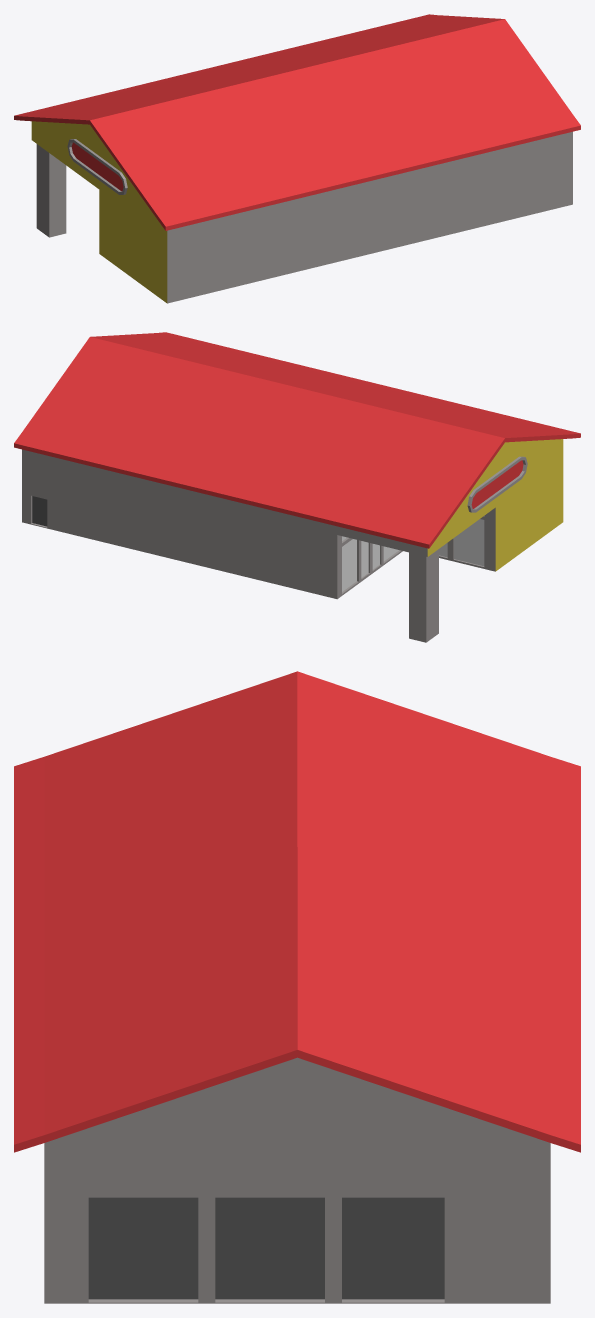
The model's file is prop_biedra.fbx.
The picture shows the model from 3 angles, top to bottom: view 1: azimuth 30°, elevation 25°; view 2: azimuth 150°, elevation 25°; view 3: azimuth 270°, elevation 25°; orthographic projection. The views are drawn at different scales.
Visible parts, largest first — view 1: biedronka; view 2: biedronka; view 3: biedronka.
Boxes of the visible parts, x1,y1,x2,y2 form: biedronka: (14,14,580,303); biedronka: (14,332,580,642); biedronka: (14,671,580,1303).
Bounding box in the file's own units: 1653 × 958 × 2611.
